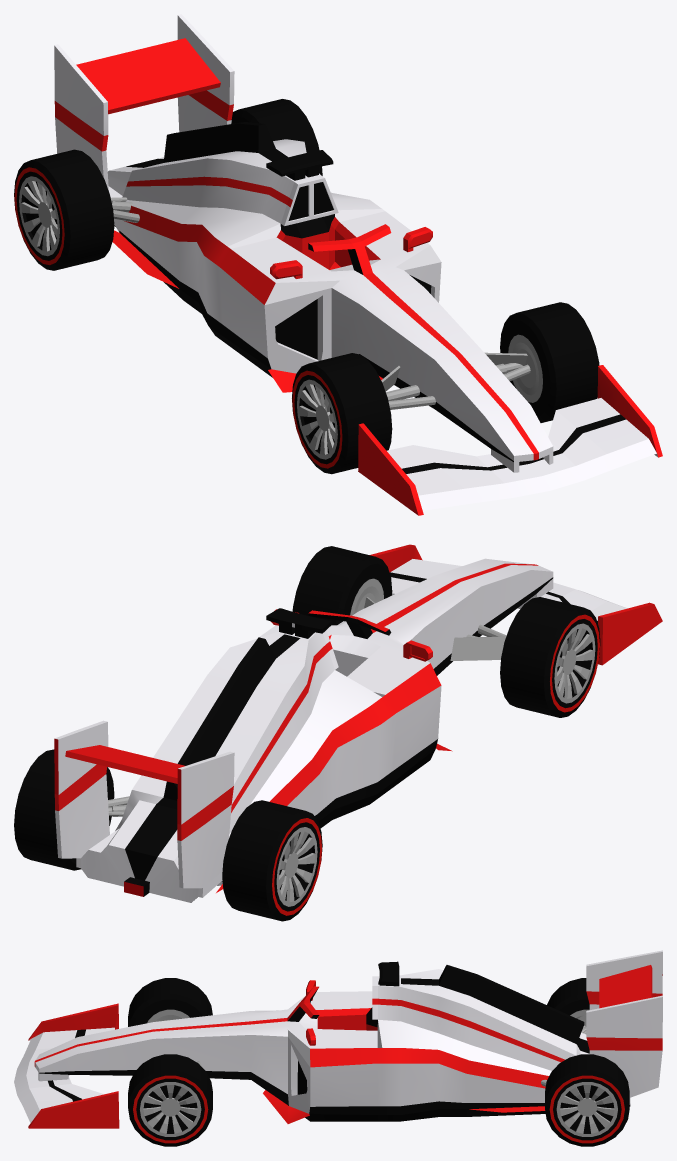
The model's file is formula 1.2.fbx.
The picture shows the model from 3 angles, top to bottom: view 1: azimuth 30°, elevation 25°; view 2: azimuth 150°, elevation 25°; view 3: azimuth 270°, elevation 25°; orthographic projection. The views are drawn at different scales.
Parts seen in each view (by area): view 1: body, spoiler, wheels back right, wheels front right, wheels front left, Cube.003, wheels back left, tubes front, mirrors; view 2: body, wheels front right, wheels back right, spoiler, wheels front left, wheels back left, Cube.003, tubes front; view 3: body, spoiler, wheels back left, wheels front left, wheels front right, Cube.003, wheels back right.
Boxes of the visible parts, <box> form: body: <box>54,14,553,472</box>; spoiler: <box>358,365,662,515</box>; wheels back right: <box>14,149,114,270</box>; wheels front right: <box>292,353,392,474</box>; wheels front left: <box>500,302,599,422</box>; Cube.003: <box>76,38,220,114</box>; wheels back left: <box>231,99,322,175</box>; tubes front: <box>381,352,530,409</box>; mirrors: <box>270,227,432,279</box>; body: <box>54,558,553,902</box>; wheels front right: <box>500,597,600,717</box>; wheels back right: <box>222,800,322,921</box>; spoiler: <box>369,544,662,665</box>; wheels front left: <box>292,546,392,625</box>; wheels back left: <box>14,749,114,870</box>; Cube.003: <box>65,745,184,783</box>; tubes front: <box>364,597,506,660</box>; body: <box>34,950,662,1123</box>; spoiler: <box>14,1003,119,1128</box>; wheels back left: <box>545,1054,629,1146</box>; wheels front left: <box>128,1054,212,1146</box>; wheels front right: <box>128,978,212,1026</box>; Cube.003: <box>599,965,652,1008</box>; wheels back right: <box>547,978,589,1026</box>.
Bounding box in the file's own units: 146 × 97.56 × 426.
